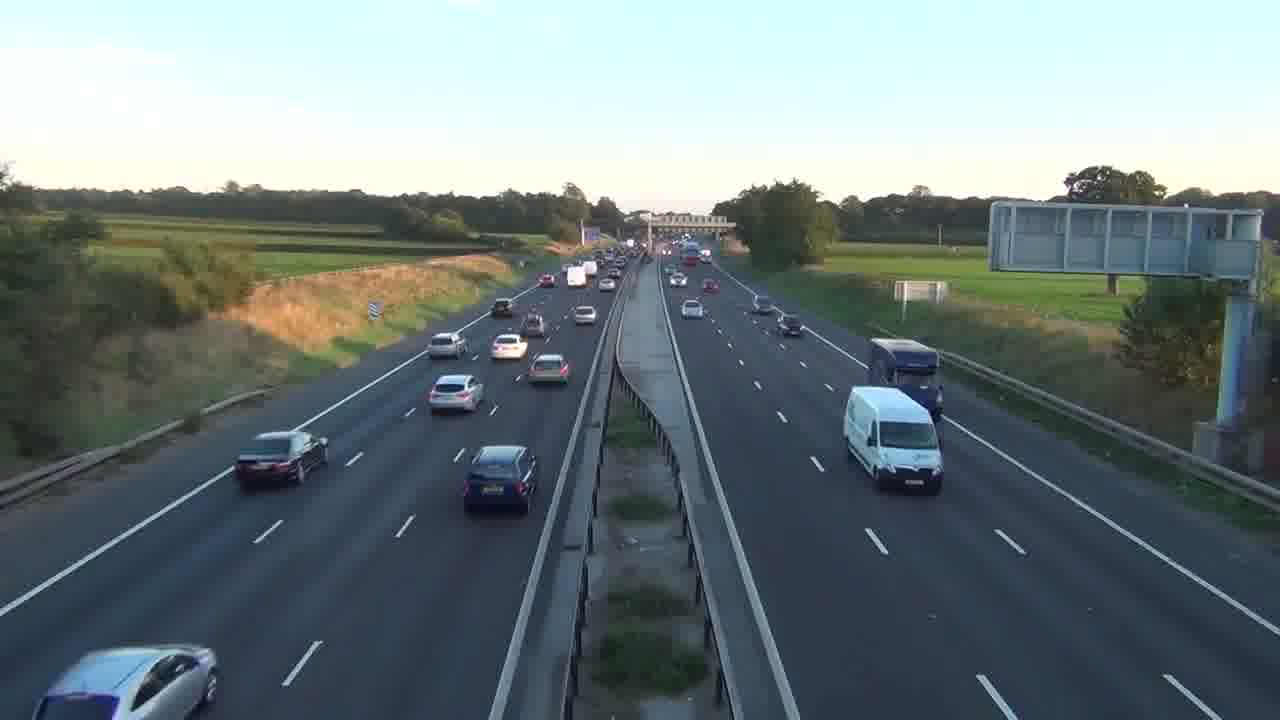bus: (866, 336, 945, 419)
car: (31, 641, 223, 719), (461, 444, 542, 514), (426, 373, 484, 416), (527, 352, 572, 386), (490, 332, 529, 361), (427, 332, 467, 360), (572, 304, 598, 326), (680, 298, 704, 319)
truck: (842, 384, 945, 494), (232, 428, 329, 489)
